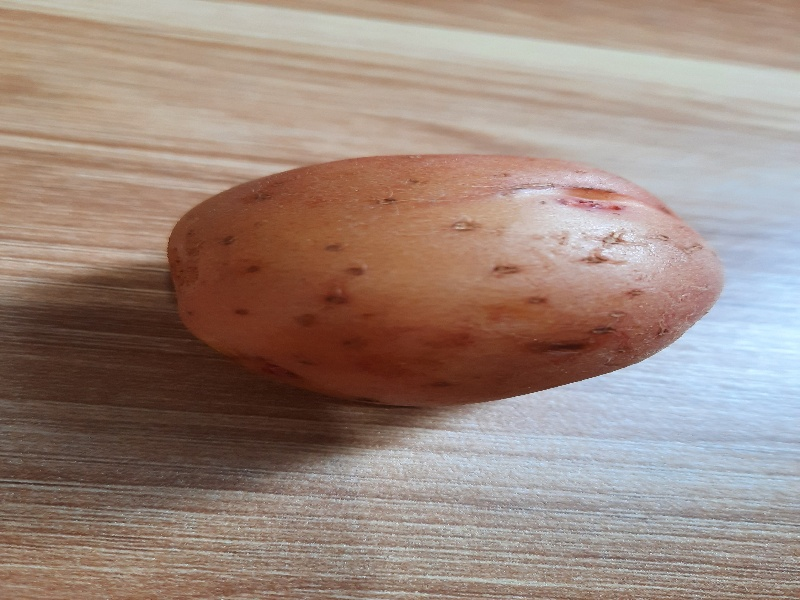vege: (159, 141, 729, 424)
